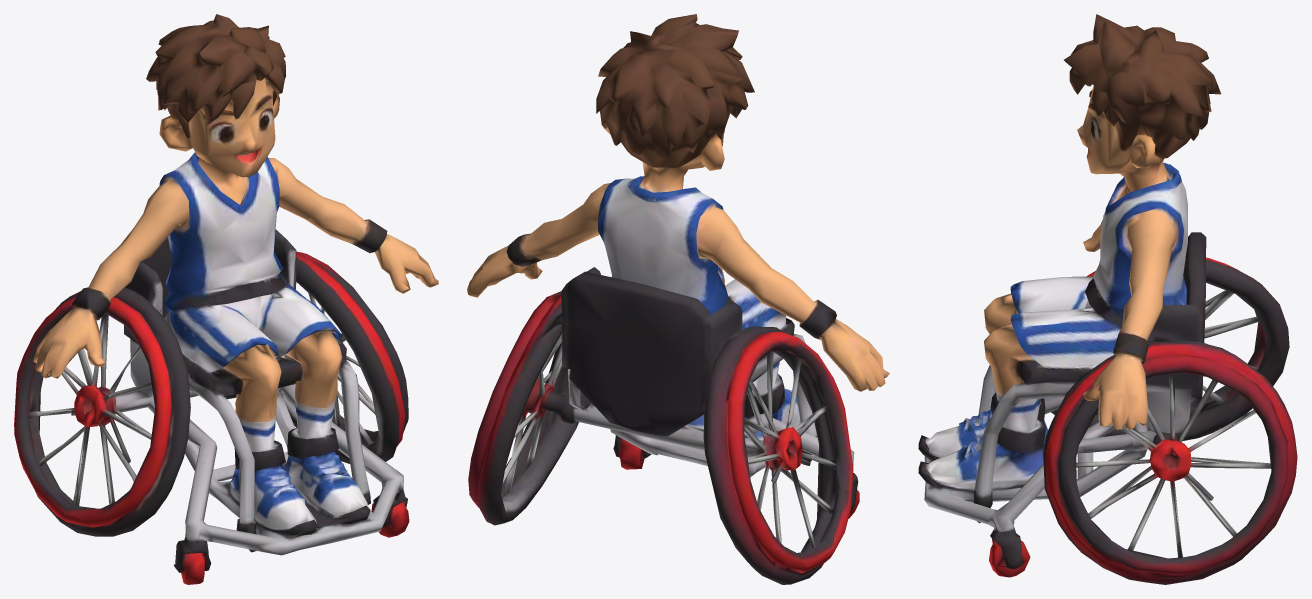
The model's file is wheelchair.glb.
The picture shows the model from 3 angles, left to right: view 1: azimuth 30°, elevation 25°; view 2: azimuth 150°, elevation 25°; view 3: azimuth 270°, elevation 25°; orthographic projection. The views are drawn at different scales.
Parts seen in each view (by area): view 1: tripo_node_7bc2a403-5aac-473c-aceb-6be182b652d3; view 2: tripo_node_7bc2a403-5aac-473c-aceb-6be182b652d3; view 3: tripo_node_7bc2a403-5aac-473c-aceb-6be182b652d3.
Boxes of the visible parts, left/top/right/bottom form: tripo_node_7bc2a403-5aac-473c-aceb-6be182b652d3: left=14, top=14, right=438, bottom=584; tripo_node_7bc2a403-5aac-473c-aceb-6be182b652d3: left=467, top=14, right=889, bottom=584; tripo_node_7bc2a403-5aac-473c-aceb-6be182b652d3: left=918, top=14, right=1297, bottom=584.
Size of the model in its own units: 0.8298 by 1 by 0.6862.
1 material, 1 textured.
